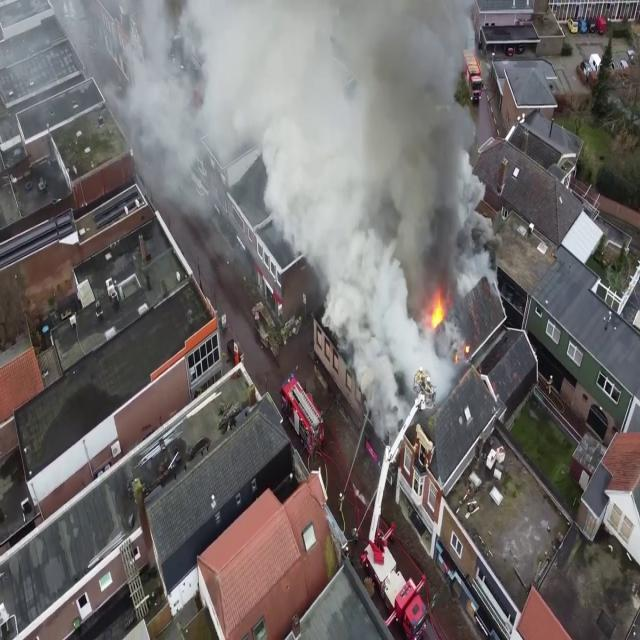Fire: (426, 282, 450, 336)
Smoke: (256, 0, 494, 402), (100, 0, 476, 243)
